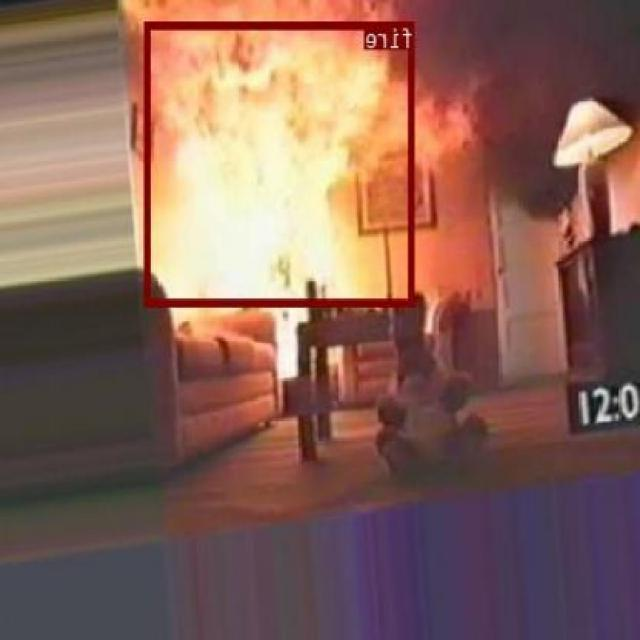Fire: (146, 0, 438, 300)
Smoke: (390, 0, 633, 223)
